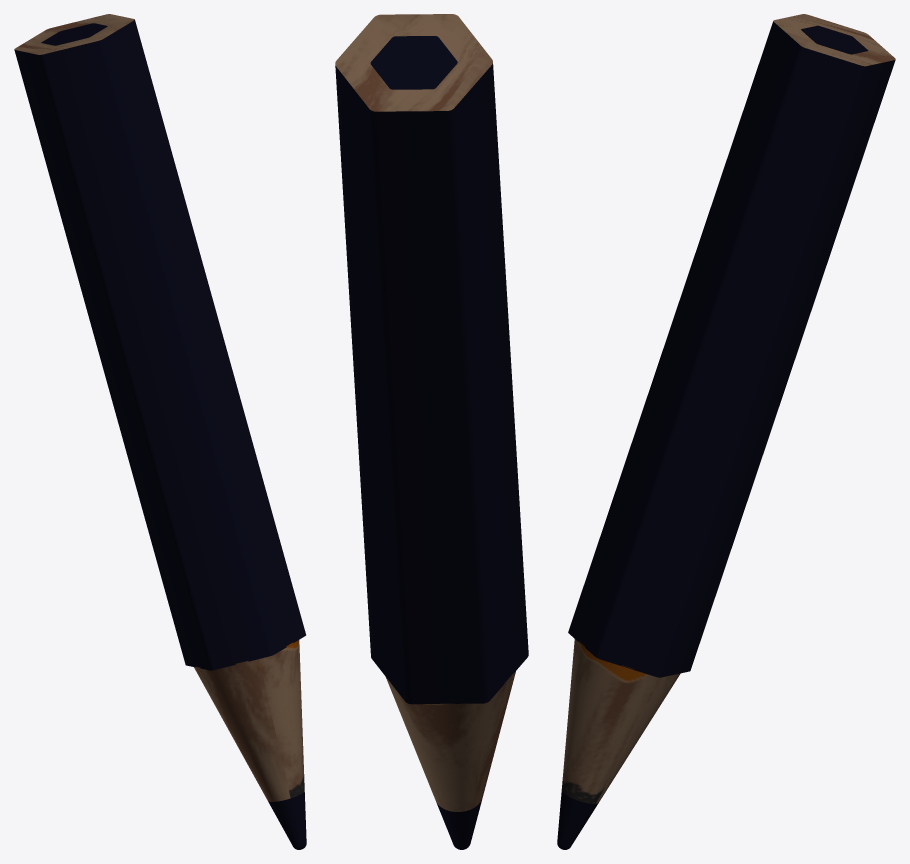
The picture shows the model from 3 angles, left to right: view 1: azimuth 30°, elevation 25°; view 2: azimuth 150°, elevation 25°; view 3: azimuth 270°, elevation 25°; orthographic projection. The views are drawn at different scales.
Parts seen in each view (by area): view 1: Da Pencil.005; view 2: Da Pencil.005; view 3: Da Pencil.005.
Boxes of the visible parts, left/top/right/bottom form: Da Pencil.005: left=14, top=14, right=306, bottom=849; Da Pencil.005: left=335, top=14, right=528, bottom=849; Da Pencil.005: left=557, top=14, right=895, bottom=849.
Size of the model in its own units: 0.2434 by 1.04 by 0.4106.
Materials: 2 (1 with a texture image).
